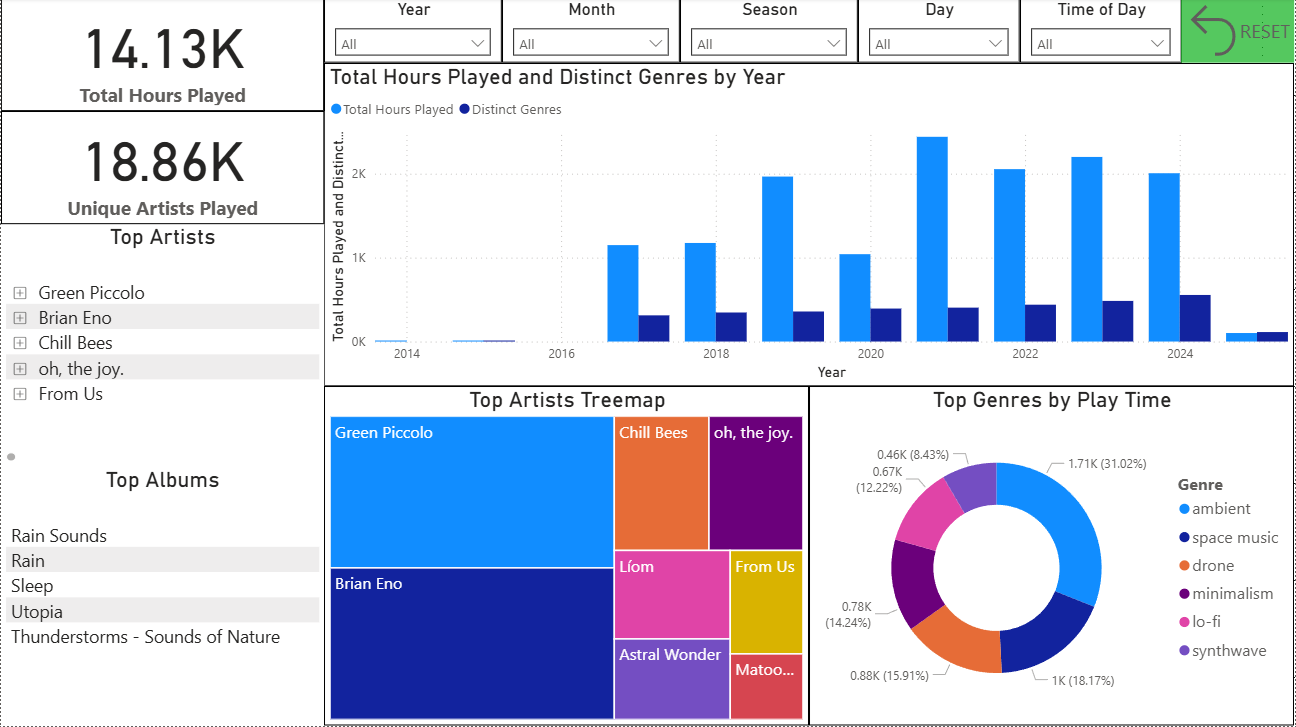

This screenshot's page, from the dashboard's own definition file:
{"tool":"powerbi","page":{"name":"Splash","canvas":[1280,720],"ordinal":0},"visuals":[{"type":"card","fields":{"Values":["public spotify_data.Total Hours Played"]},"box":[0,0,320,112],"z":0},{"type":"slicer","title":"Year","fields":{"Values":["public spotify_data.timestamp_column.Variation.Date Hierarchy.Year"]},"box":[320,0,176,64],"z":1000},{"type":"clusteredColumnChart","fields":{"Category":["public spotify_data.timestamp_column.Variation.Date Hierarchy.Year","public spotify_data.timestamp_column.Variation.Date Hierarchy.Month","public spotify_data.timestamp_column.Variation.Date Hierarchy.Day"],"Y":["public spotify_data.Total Hours Played","genres.Genre"]},"box":[320,64,960,320],"z":2000},{"type":"pivotTable","title":"Top Artists","fields":{"Values":["public spotify_data.Track Play Count"],"Rows":["public spotify_data.artist_name","public spotify_data.track_name"],"Columns":["public spotify_data.ms_played"]},"box":[0,224,320,240],"z":3000},{"type":"pivotTable","title":"Top Albums","fields":{"Rows":["public spotify_data.album_name"],"Values":["public spotify_data.ms_played"]},"box":[0,464,320,256],"z":4000},{"type":"treemap","title":"Top Artists Treemap","fields":{"Group":["public spotify_data.artist_name","public spotify_data.track_name"],"Values":["public spotify_data.Track Play Count"]},"box":[320,384,480,336],"z":5000},{"type":"donutChart","title":"Top Genres by Play Time","fields":{"Y":["genres.Genre Play Time (Hours)"],"Category":["genres.genre"]},"box":[800,384,480,336],"z":6000},{"type":"slicer","title":"Time of Day","fields":{"Values":["public spotify_data.time_of_day"]},"box":[1008,0,160,64],"z":7000},{"type":"slicer","title":"Season","fields":{"Values":["public spotify_data.season"]},"box":[672,0,176,64],"z":8000},{"type":"slicer","title":"Month","fields":{"Values":["public spotify_data.timestamp_column.Variation.Date Hierarchy.Month"]},"box":[496,0,176,64],"z":9000},{"type":"slicer","title":"Day","fields":{"Values":["public spotify_data.timestamp_column.Variation.Date Hierarchy.Day"]},"box":[848,0,160,64],"z":10000},{"type":"actionButton","box":[1168,0,112,64],"z":11000},{"type":"card","fields":{"Values":["public spotify_data.artist_name"]},"box":[0,112,320,112],"z":12000}]}

Visuals, with their boxes in screenshot pixels (x1, y1, x2, y2), scaled from the page's 1280x720 canvas onto the 1296x727 screenshot:
card - public spotify_data.Total Hours Played: BBox(0, 0, 324, 113)
"Year" slicer: BBox(324, 0, 502, 65)
clusteredColumnChart - public spotify_data.timestamp_column.Variation.Date Hierarchy.Year x public spotify_data.timestamp_column.Variation.Date Hierarchy.Month: BBox(324, 65, 1295, 388)
"Top Artists" pivotTable: BBox(0, 226, 324, 469)
"Top Albums" pivotTable: BBox(0, 469, 324, 726)
"Top Artists Treemap" treemap: BBox(324, 388, 810, 726)
"Top Genres by Play Time" donutChart: BBox(810, 388, 1295, 726)
"Time of Day" slicer: BBox(1021, 0, 1183, 65)
"Season" slicer: BBox(680, 0, 859, 65)
"Month" slicer: BBox(502, 0, 680, 65)
"Day" slicer: BBox(859, 0, 1021, 65)
actionButton: BBox(1183, 0, 1295, 65)
card - public spotify_data.artist_name: BBox(0, 113, 324, 226)
